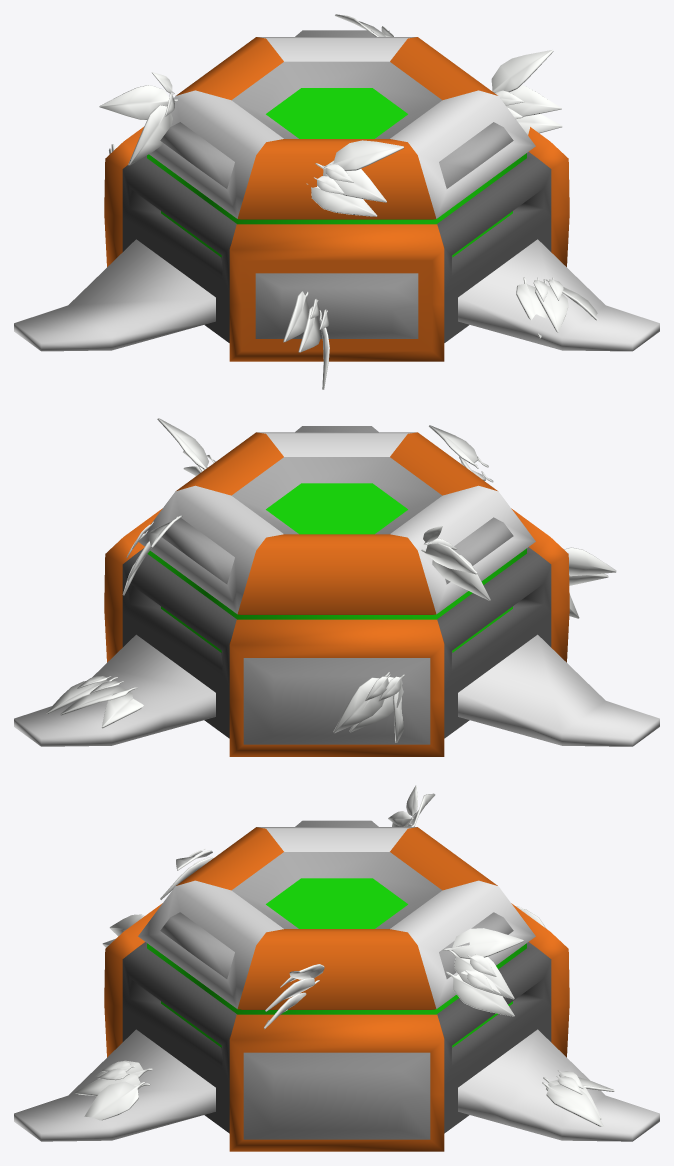
The model's file is PortaEscudo_Origen.fbx.
The picture shows the model from 3 angles, top to bottom: view 1: azimuth 30°, elevation 25°; view 2: azimuth 150°, elevation 25°; view 3: azimuth 270°, elevation 25°; orthographic projection.
Parts seen in each view (by area): view 1: Cylinder.004, Cylinder.002, Cylinder, Cylinder.001, Cube.002, Cylinder.003; view 2: Cylinder.004, Cylinder.002, Cylinder, Cylinder.001, Cube.002, Cylinder.003; view 3: Cylinder.002, Cylinder.004, Cylinder, Cylinder.001, Cube.002, Cylinder.003.
Boxes of the visible parts, left/top/right/bottom form: Cylinder.004: left=14, top=37, right=659, bottom=351; Cylinder.002: left=104, top=37, right=569, bottom=361; Cylinder: left=160, top=30, right=513, bottom=338; Cylinder.001: left=122, top=152, right=551, bottom=342; Cube.002: left=99, top=14, right=598, bottom=389; Cylinder.003: left=147, top=88, right=526, bottom=257; Cylinder.004: left=14, top=432, right=659, bottom=746; Cylinder.002: left=104, top=432, right=569, bottom=756; Cylinder: left=162, top=426, right=513, bottom=744; Cylinder.001: left=122, top=547, right=551, bottom=738; Cube.002: left=45, top=418, right=616, bottom=742; Cylinder.003: left=147, top=483, right=526, bottom=652; Cylinder.002: left=104, top=827, right=569, bottom=1151; Cylinder.004: left=14, top=827, right=659, bottom=1141; Cylinder: left=160, top=820, right=513, bottom=1139; Cylinder.001: left=122, top=942, right=551, bottom=1133; Cube.002: left=75, top=785, right=614, bottom=1126; Cylinder.003: left=147, top=878, right=526, bottom=1047.
Size of the model in its own units: 140 by 57.54 by 154.
